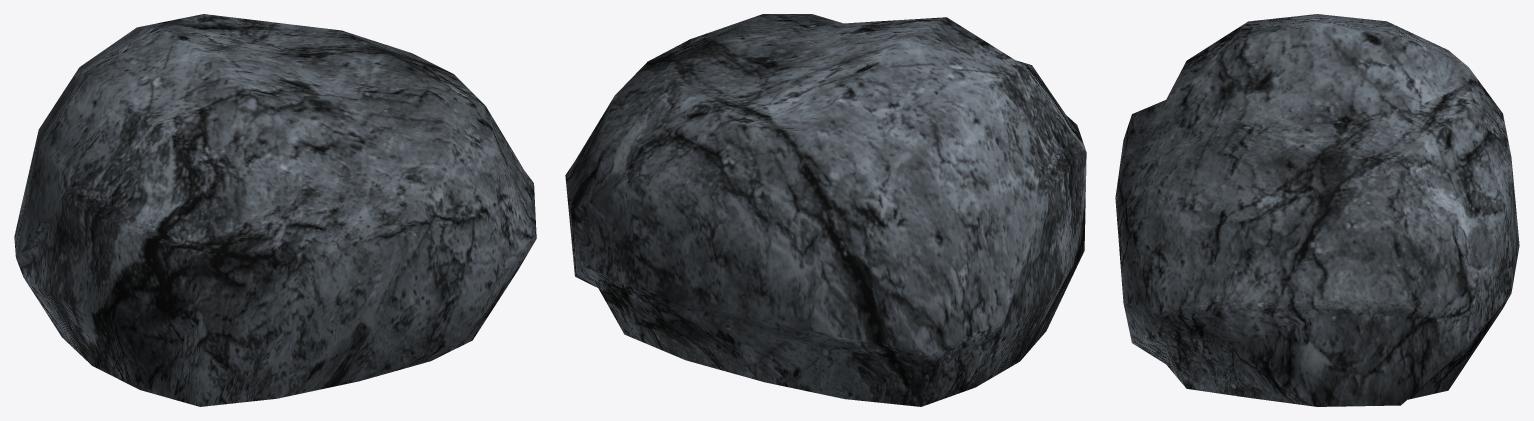
File: Stone03.fbx
The picture shows the model from 3 angles, left to right: view 1: azimuth 30°, elevation 25°; view 2: azimuth 150°, elevation 25°; view 3: azimuth 270°, elevation 25°; orthographic projection. The views are drawn at different scales.
Parts seen in each view (by area): view 1: Cube_002; view 2: Cube_002; view 3: Cube_002.
Part boxes in pixels (<box>): Cube_002: <box>14,14,536,406</box>; Cube_002: <box>565,14,1086,406</box>; Cube_002: <box>1115,14,1519,406</box>.
Size of the model in its own units: 0.9404 by 0.5882 by 0.7978.
